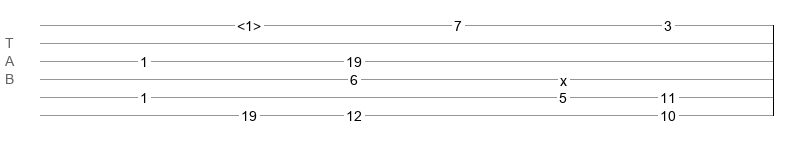1: (140, 90, 148, 100), (140, 54, 148, 64)
10: (660, 108, 676, 118)
11: (660, 90, 676, 100)
12: (346, 108, 362, 118)
19: (241, 108, 257, 118), (346, 54, 362, 64)
3: (664, 18, 672, 28)
5: (559, 90, 567, 100)
6: (350, 72, 358, 82)
7: (454, 18, 462, 28)
harmonic: (237, 18, 261, 28)
x: (560, 73, 567, 81)
